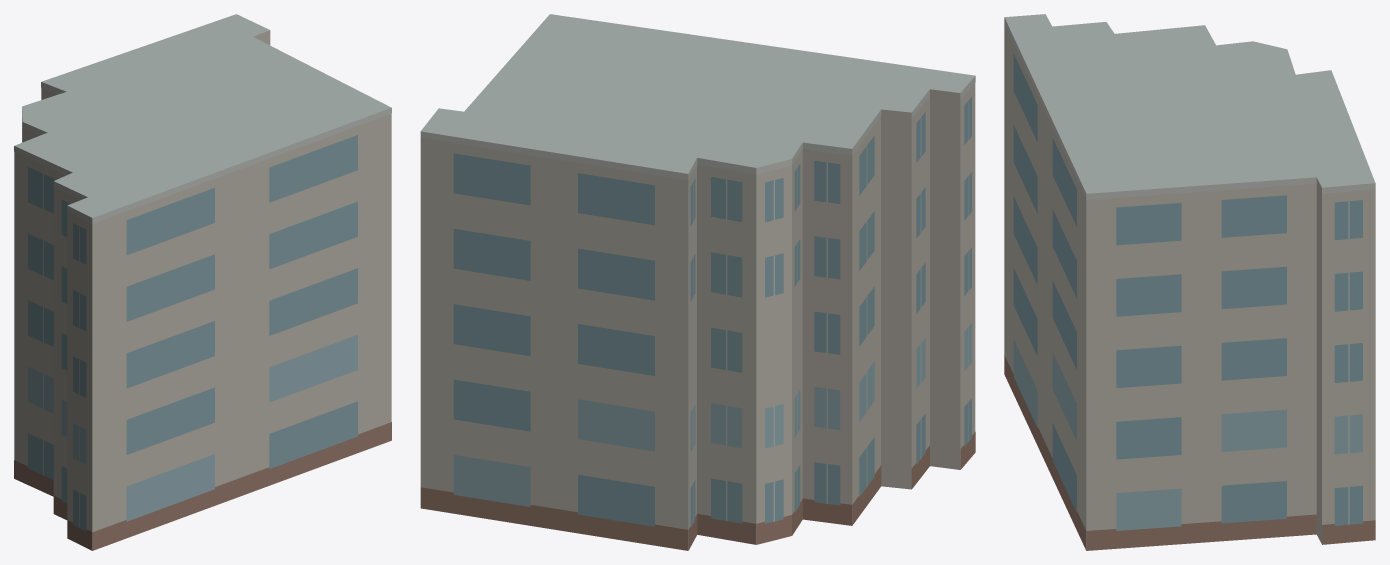
File: survey-upis-32734816.glb
3 views of the same model, side by side, from view 1: azimuth 30°, elevation 25°; view 2: azimuth 150°, elevation 25°; view 3: azimuth 270°, elevation 25° (orthographic). The views are drawn at different scales.
Visible parts, largest first — view 1: survey-upis-32734816.tmp; view 2: survey-upis-32734816.tmp; view 3: survey-upis-32734816.tmp.
Boxes of the visible parts, <box> form: survey-upis-32734816.tmp: <box>14,14,391,550</box>; survey-upis-32734816.tmp: <box>420,14,975,550</box>; survey-upis-32734816.tmp: <box>1004,14,1375,550</box>.
Size of the model in its own units: 15.14 by 14.01 by 13.21.
